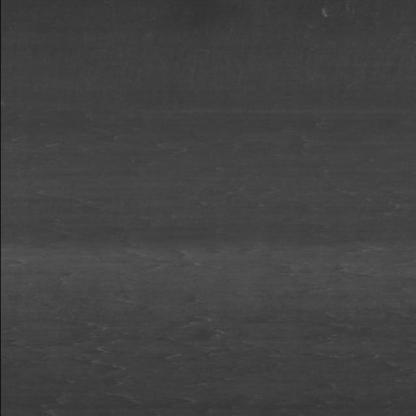silk_spot: (154, 317, 268, 395), (53, 305, 141, 404), (301, 318, 402, 378), (293, 240, 386, 290), (135, 246, 205, 280)
